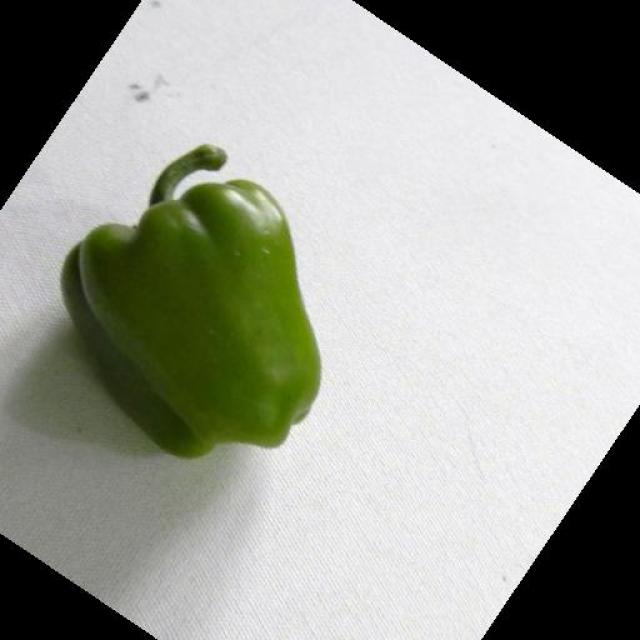Fresh_Capsicum: (80, 210, 337, 412)
